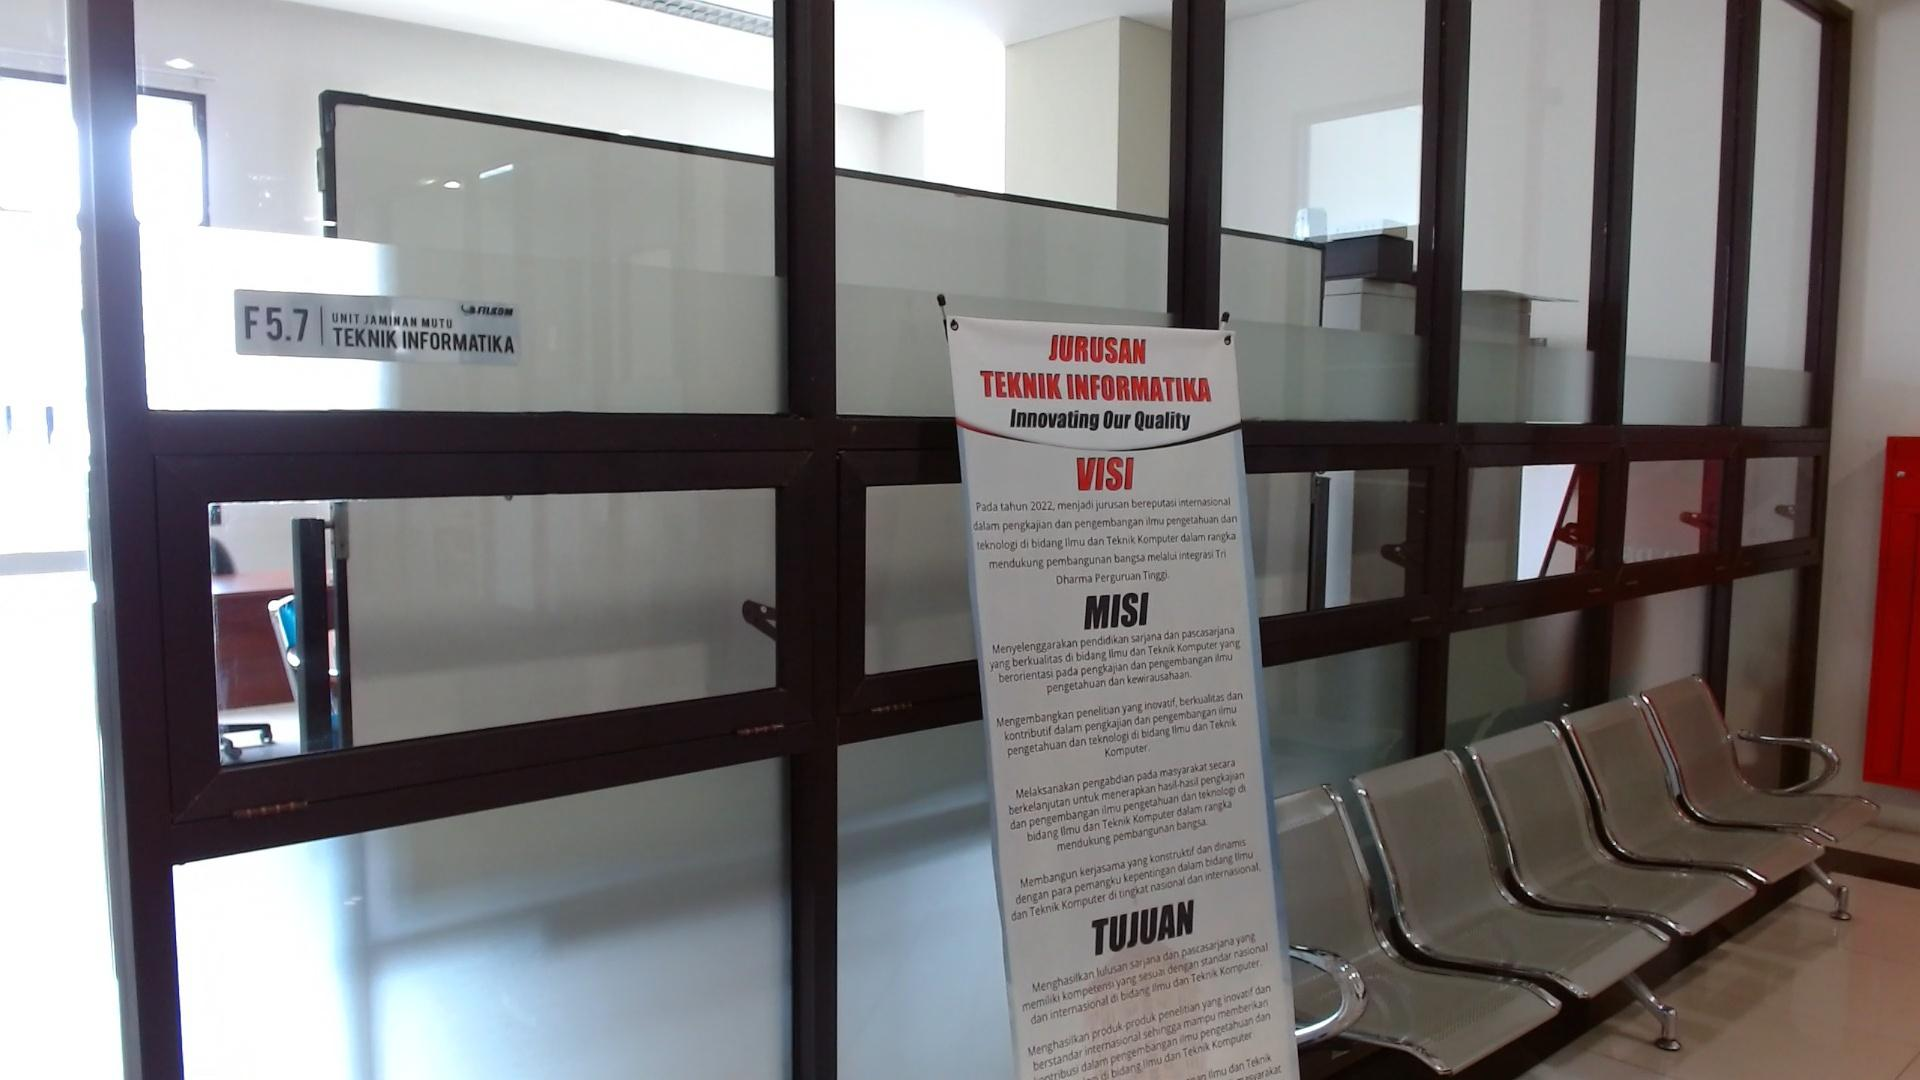plate: (235, 289, 521, 365)
